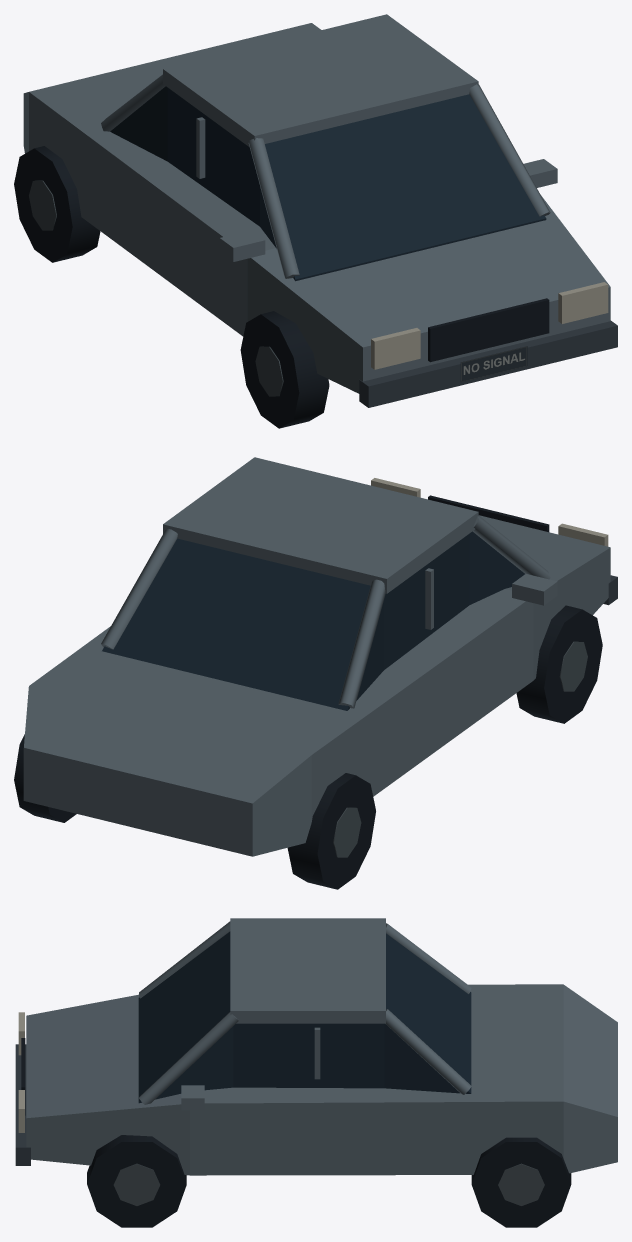
The model's file is la-abandoned-sedan.glb.
The picture shows the model from 3 angles, top to bottom: view 1: azimuth 30°, elevation 25°; view 2: azimuth 150°, elevation 25°; view 3: azimuth 270°, elevation 25°; orthographic projection. The views are drawn at different scales.
Parts seen in each view (by area): view 1: la-abandoned-sedan; view 2: la-abandoned-sedan; view 3: la-abandoned-sedan.
Boxes of the visible parts, left/top/right/bottom form: la-abandoned-sedan: left=14, top=14, right=617, bottom=428; la-abandoned-sedan: left=14, top=457, right=617, bottom=889; la-abandoned-sedan: left=15, top=918, right=617, bottom=1227.
Bounding box in the file's own units: 2.04 × 1.42 × 3.88.
2 materials, 1 textured.
